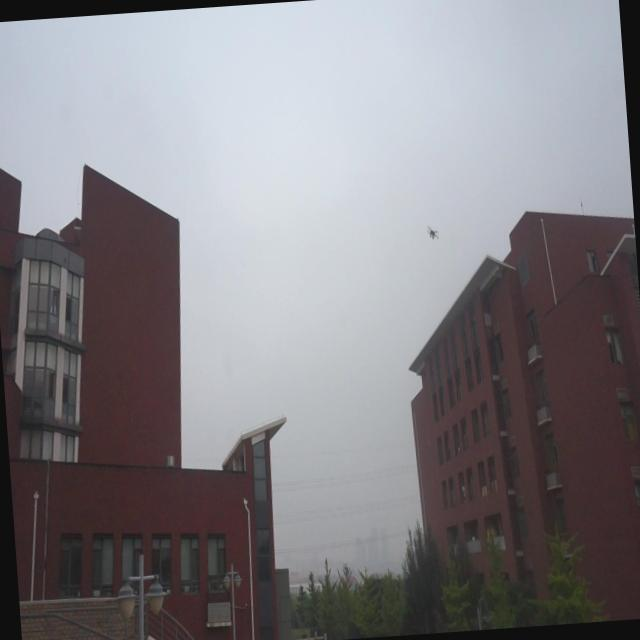drone: (425, 223, 439, 243)
